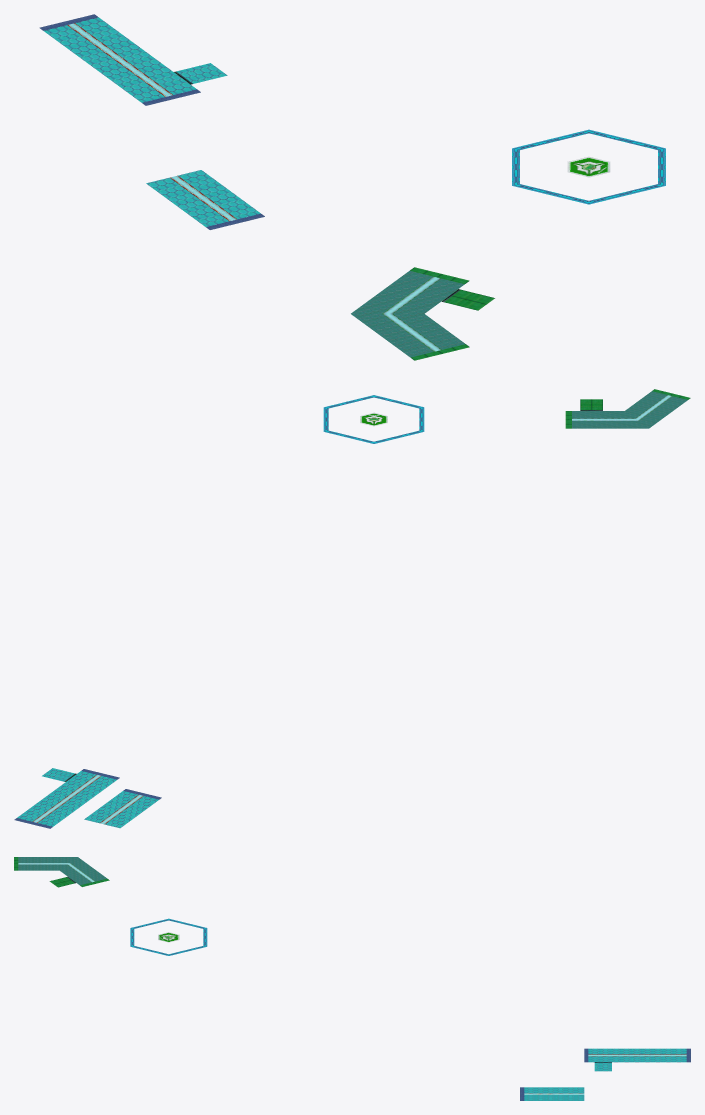
File: S03_ONS_03.OBJ
The picture shows the model from 3 angles, top to bottom: view 1: azimuth 30°, elevation 25°; view 2: azimuth 150°, elevation 25°; view 3: azimuth 270°, elevation 25°; orthographic projection. The views are drawn at different scales.
Parts seen in each view (by area): view 1: s03_ons_03_7, s03_ons_03_2, s03_ons_03_4, s03_ons_03_6, s03_ons_03_0, s03_ons_03_1, s03_ons_03_5, s03_ons_03_3; view 2: s03_ons_03_7, s03_ons_03_2, s03_ons_03_4; view 3: s03_ons_03_7, s03_ons_03_2, s03_ons_03_4, s03_ons_03_6.
Part boxes in pixels (box(x1,y1,x2,y2)): s03_ons_03_7: box(44, 17, 260, 226); s03_ons_03_2: box(351, 270, 465, 357); s03_ons_03_4: box(512, 129, 665, 204); s03_ons_03_6: box(67, 23, 236, 221); s03_ons_03_0: box(410, 267, 494, 360); s03_ons_03_1: box(382, 276, 441, 351); s03_ons_03_5: box(39, 14, 264, 229); s03_ons_03_3: box(567, 156, 610, 177); s03_ons_03_7: box(17, 768, 158, 828); s03_ons_03_2: box(572, 391, 687, 428); s03_ons_03_4: box(323, 395, 424, 443); s03_ons_03_7: box(524, 1048, 686, 1100); s03_ons_03_2: box(18, 857, 106, 885); s03_ons_03_4: box(130, 918, 207, 955); s03_ons_03_6: box(524, 1054, 686, 1094).
Bounding box in the file's own units: 1098 × 810 × 3170.
